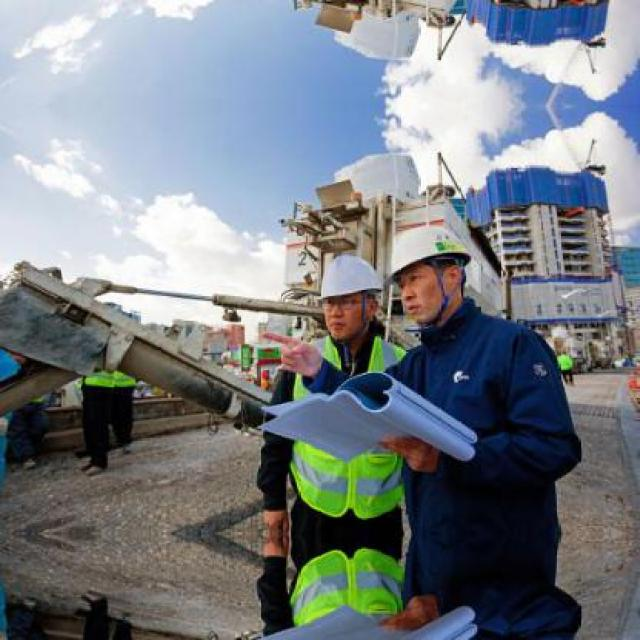helmet: (389, 217, 473, 331), (306, 252, 386, 340)
